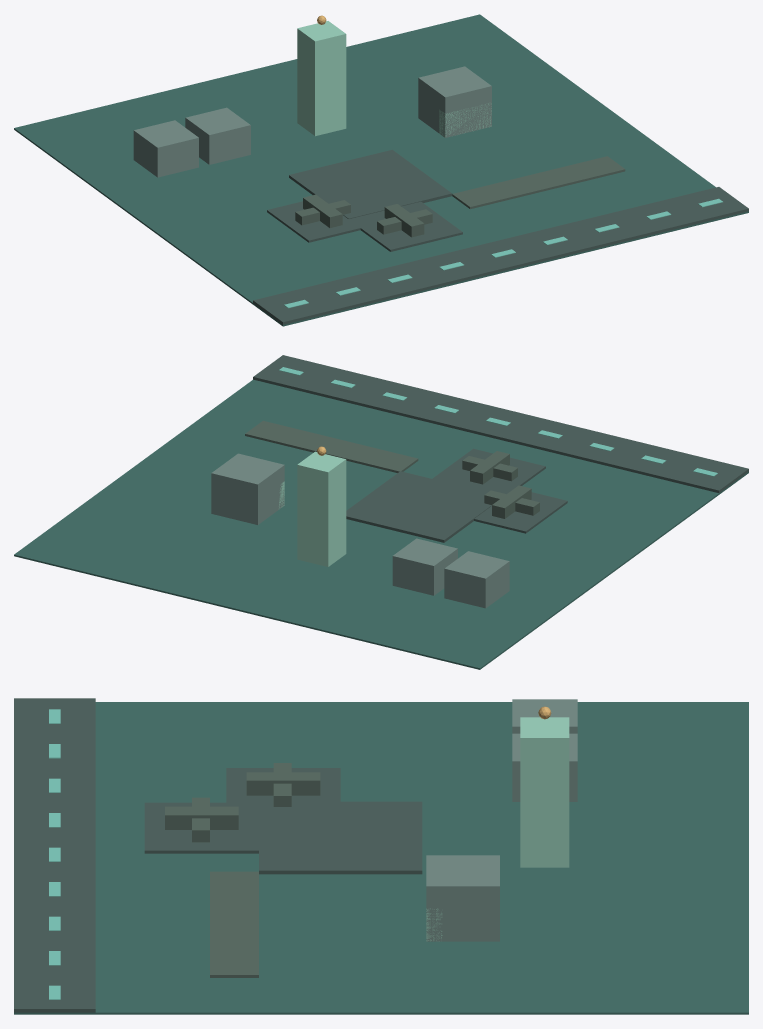
File: stage_08.glb
The picture shows the model from 3 angles, top to bottom: view 1: azimuth 30°, elevation 25°; view 2: azimuth 150°, elevation 25°; view 3: azimuth 270°, elevation 25°; orthographic projection. The views are drawn at different scales.
Visible parts, largest first — view 1: geometry_0; view 2: geometry_0; view 3: geometry_0.
Boxes of the visible parts, x1,y1,x2,y2 form: geometry_0: [14, 14, 748, 326]; geometry_0: [14, 355, 748, 669]; geometry_0: [14, 698, 748, 1014].
Size of the model in its own units: 9 by 2.06 by 9.
